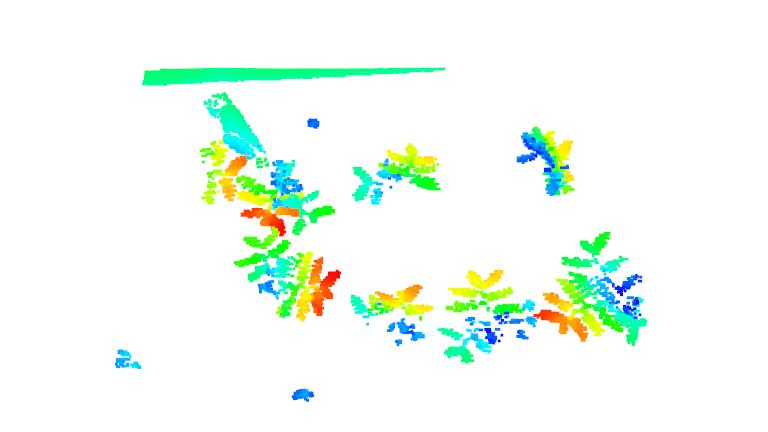chickpea: (541, 230, 648, 345), (227, 231, 336, 325), (443, 268, 535, 362), (247, 153, 331, 234), (346, 141, 445, 206), (347, 283, 429, 345), (512, 124, 578, 198), (194, 135, 253, 201)
